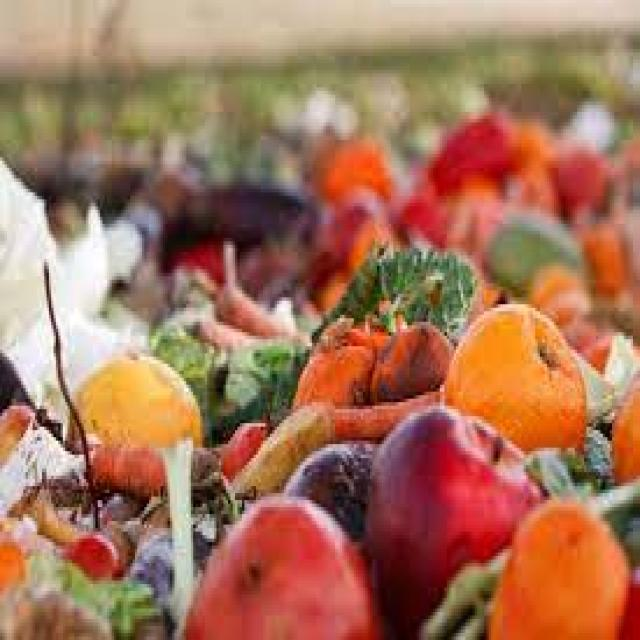Organik: (5, 98, 640, 640), (213, 193, 495, 492), (368, 362, 540, 592), (170, 470, 378, 640), (441, 238, 603, 454), (60, 298, 219, 506)
